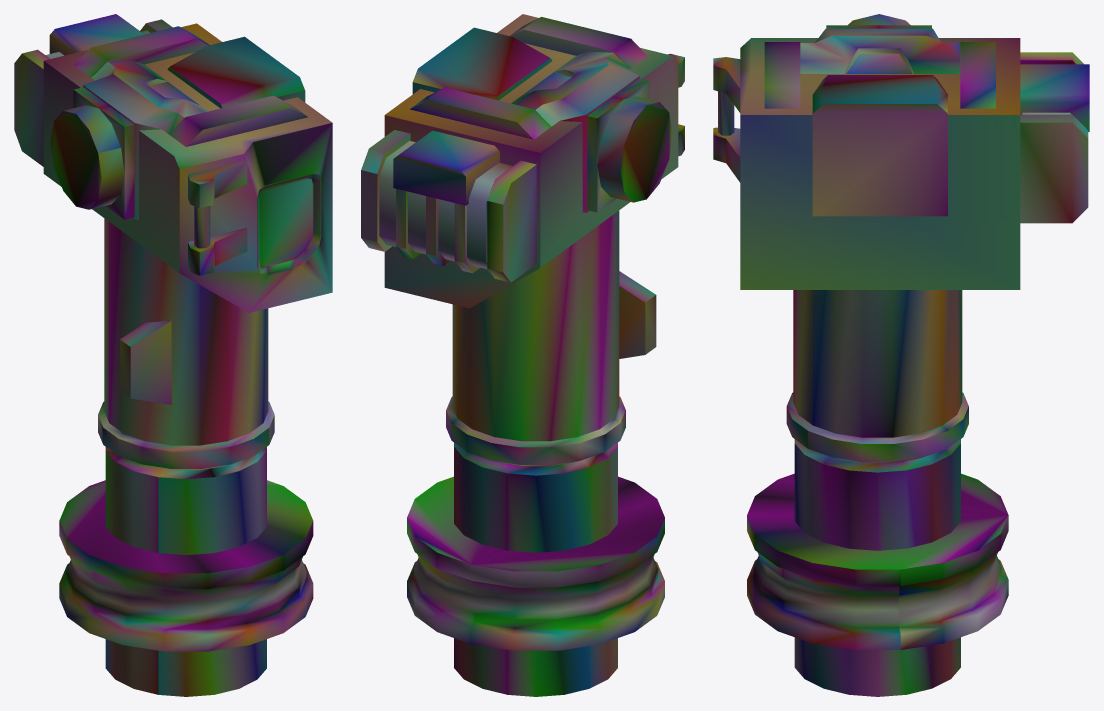
Rendered from ASE_RocketTurret_Body.gltf.
3 renders of one model, left to right at view 1: azimuth 30°, elevation 25°; view 2: azimuth 150°, elevation 25°; view 3: azimuth 270°, elevation 25°, orthographic. The views are drawn at different scales.
Parts seen in each view (by area): view 1: ASE_RocketTurret_Body; view 2: ASE_RocketTurret_Body; view 3: ASE_RocketTurret_Body.
Boxes of the visible parts, x1,y1,x2,y2 form: ASE_RocketTurret_Body: (14, 14, 332, 696); ASE_RocketTurret_Body: (361, 14, 684, 696); ASE_RocketTurret_Body: (713, 14, 1089, 696).
Size of the model in its own units: 0.2847 by 0.7286 by 0.4134.
